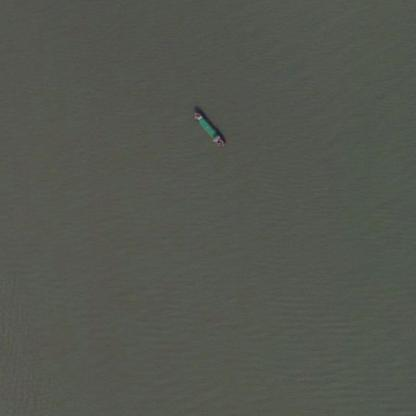ship: (187, 105, 229, 151)
